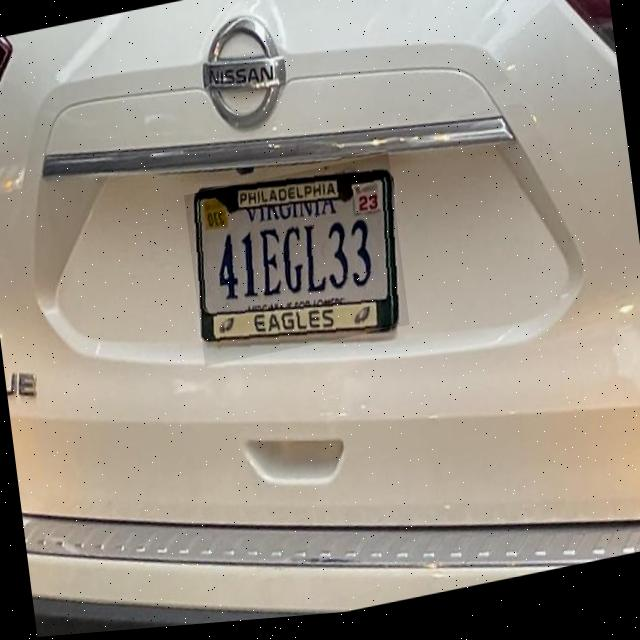LicensePlate: (192, 177, 400, 347)
